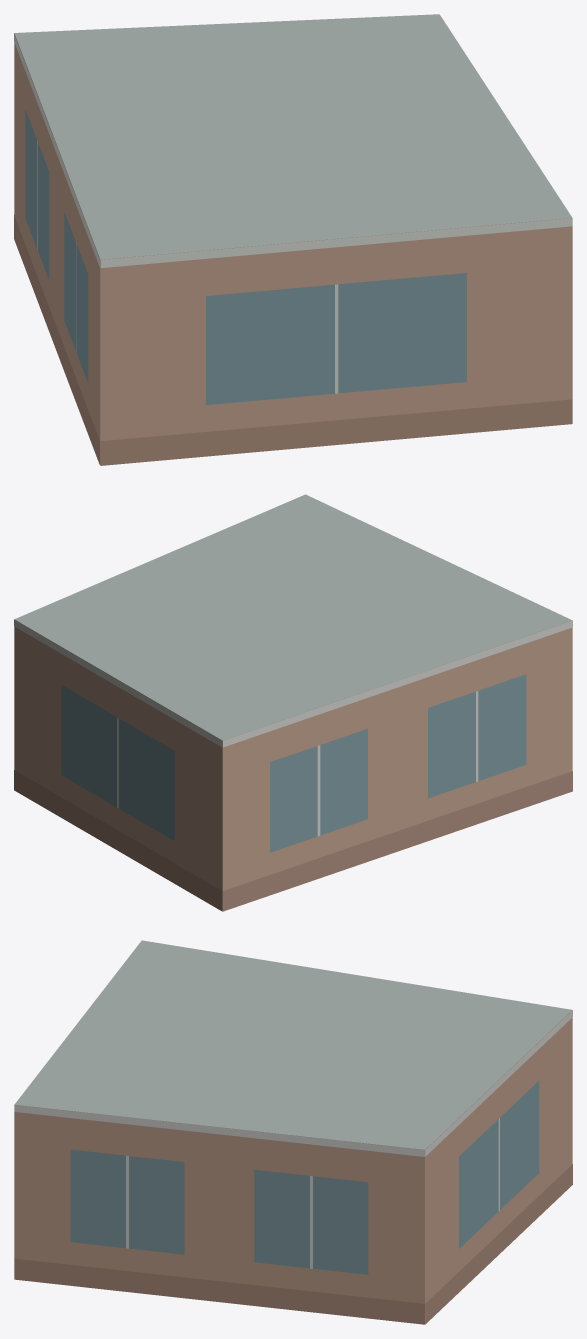
The model's file is survey-upis-32927449.glb.
3 renders of one model, top to bottom at view 1: azimuth 30°, elevation 25°; view 2: azimuth 150°, elevation 25°; view 3: azimuth 270°, elevation 25°, orthographic. The views are drawn at different scales.
Visible parts, largest first — view 1: survey-upis-32927449.tmp; view 2: survey-upis-32927449.tmp; view 3: survey-upis-32927449.tmp.
Boxes of the visible parts, x1,y1,x2,y2 form: survey-upis-32927449.tmp: [14, 14, 572, 465]; survey-upis-32927449.tmp: [14, 494, 572, 911]; survey-upis-32927449.tmp: [14, 940, 572, 1324].
Bounding box in the file's own units: 7.85 × 3.05 × 8.84.
